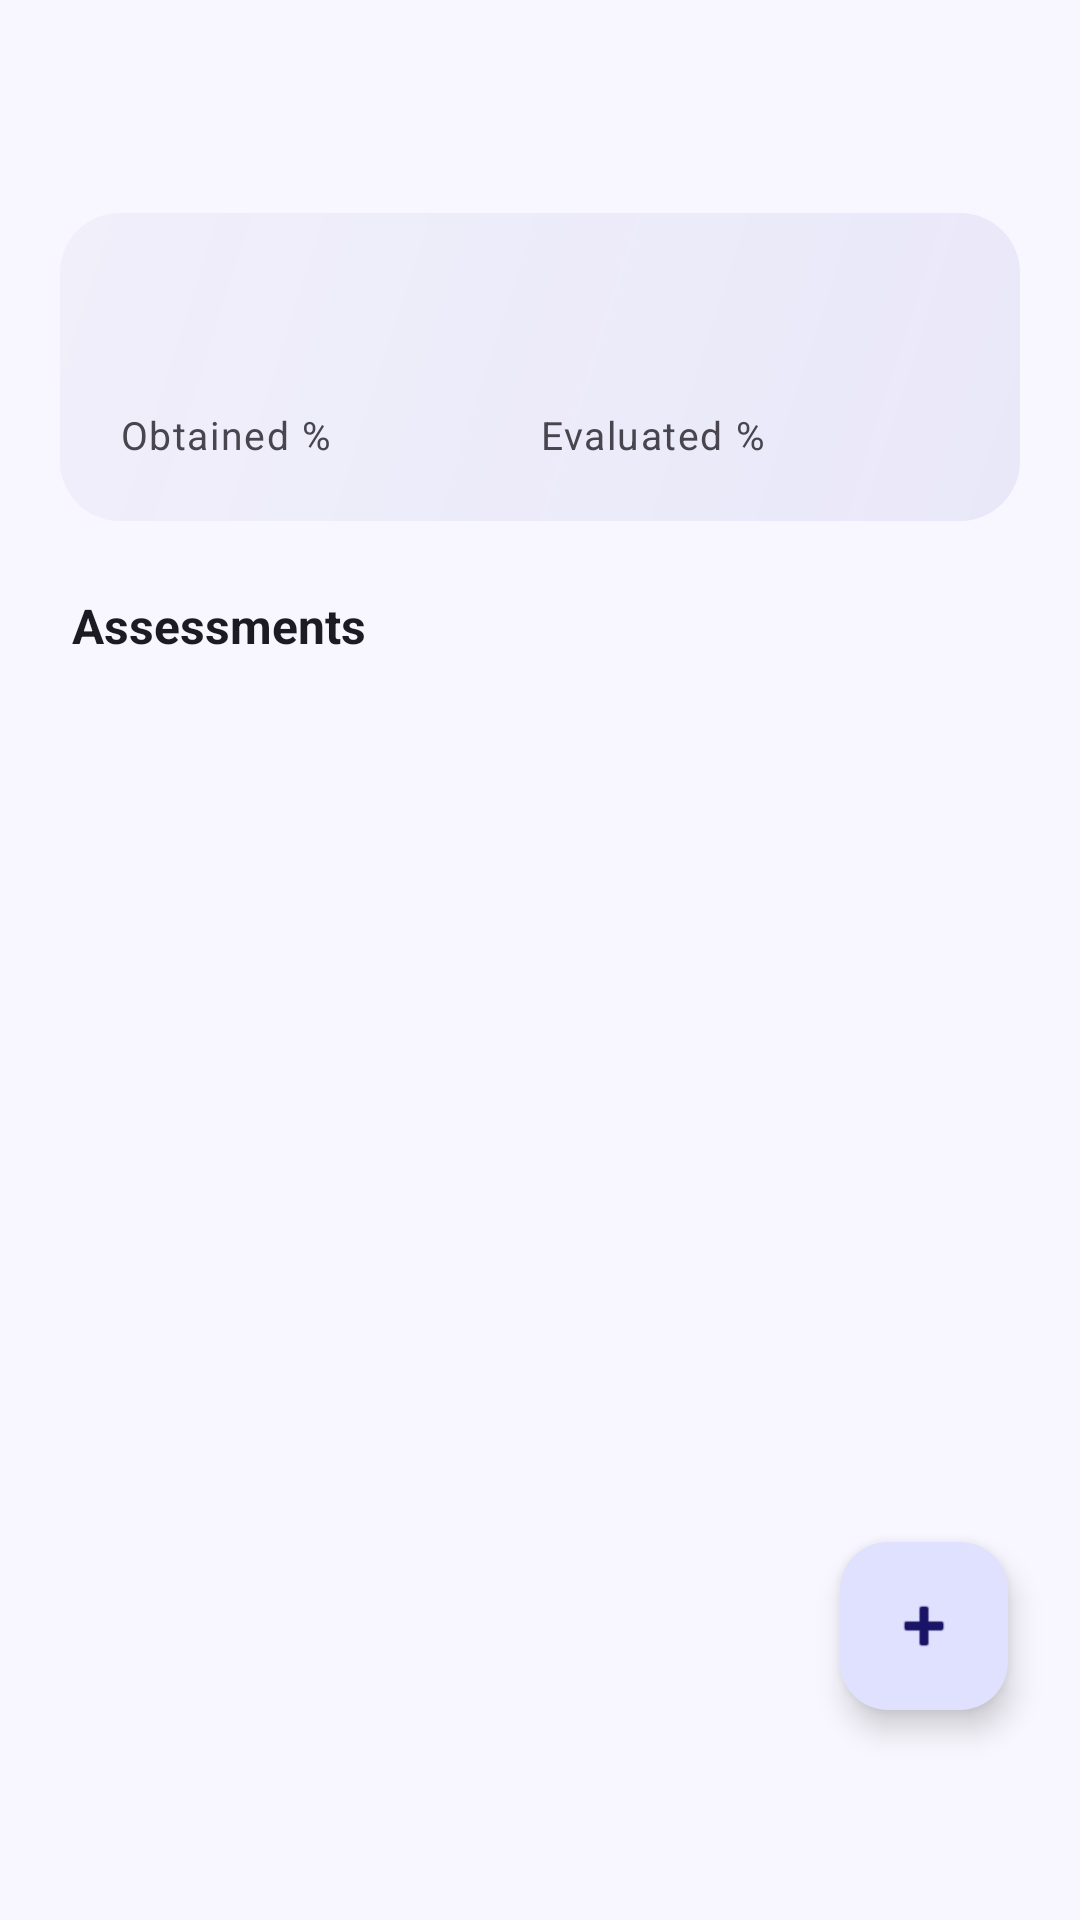

Icons on this 1080px x 1920px Android screen, each with its box as BBox(x1, y1, x2, y2):
Add Assessment: BBox(840, 1542, 1008, 1710)
